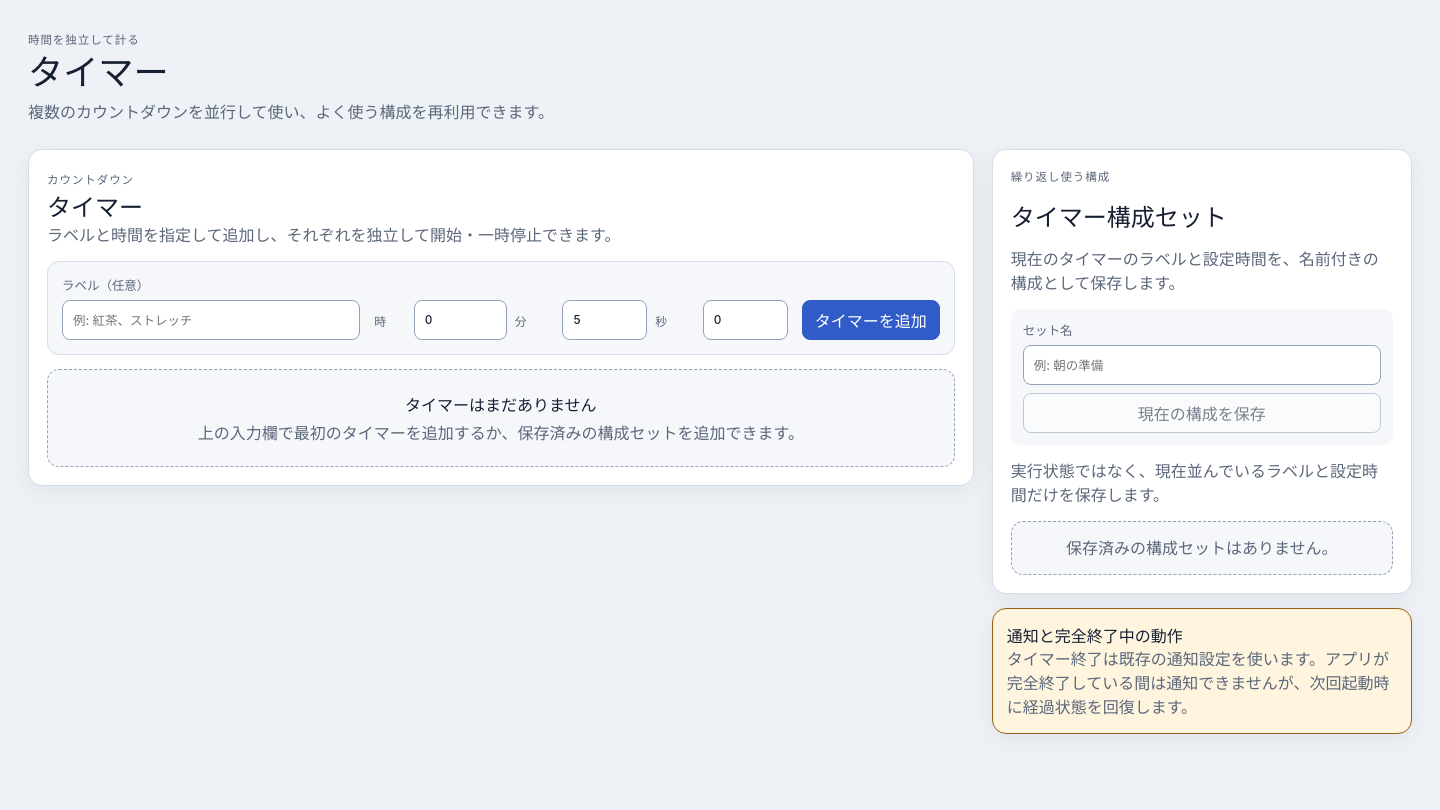
Scenario: TimersView › creates and independently controls multiple labeled timers
Expected: the heading "タイマー" below "時間を独立して計る" is shown, [28,51,169,93]
Type "紅茶" into the field with placeholder "例: 紅茶、ストレッチ" at coordinates (211, 320), box [62,300,360,340]
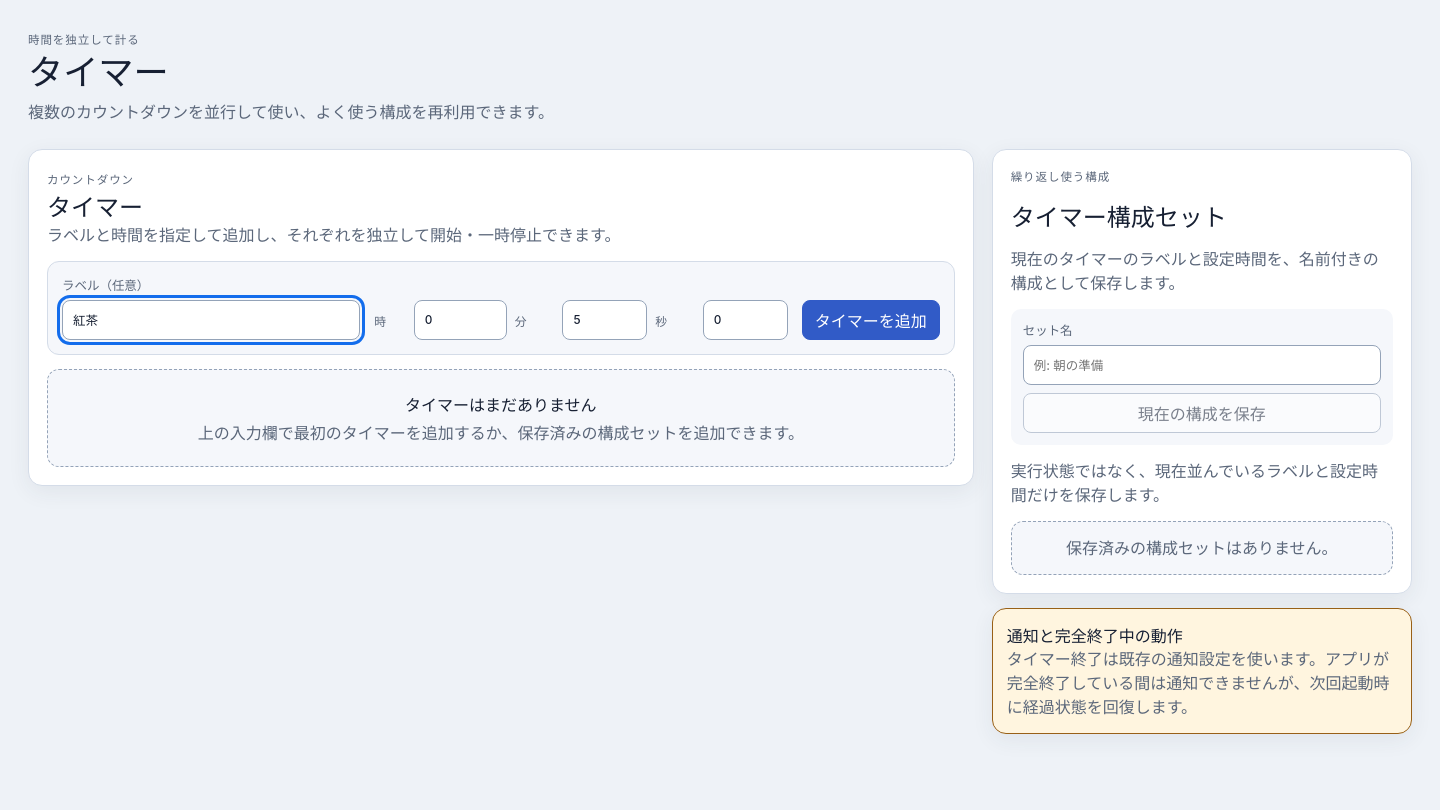
Click the button "タイマーを追加" at coordinates (871, 320), box [802,300,940,340]
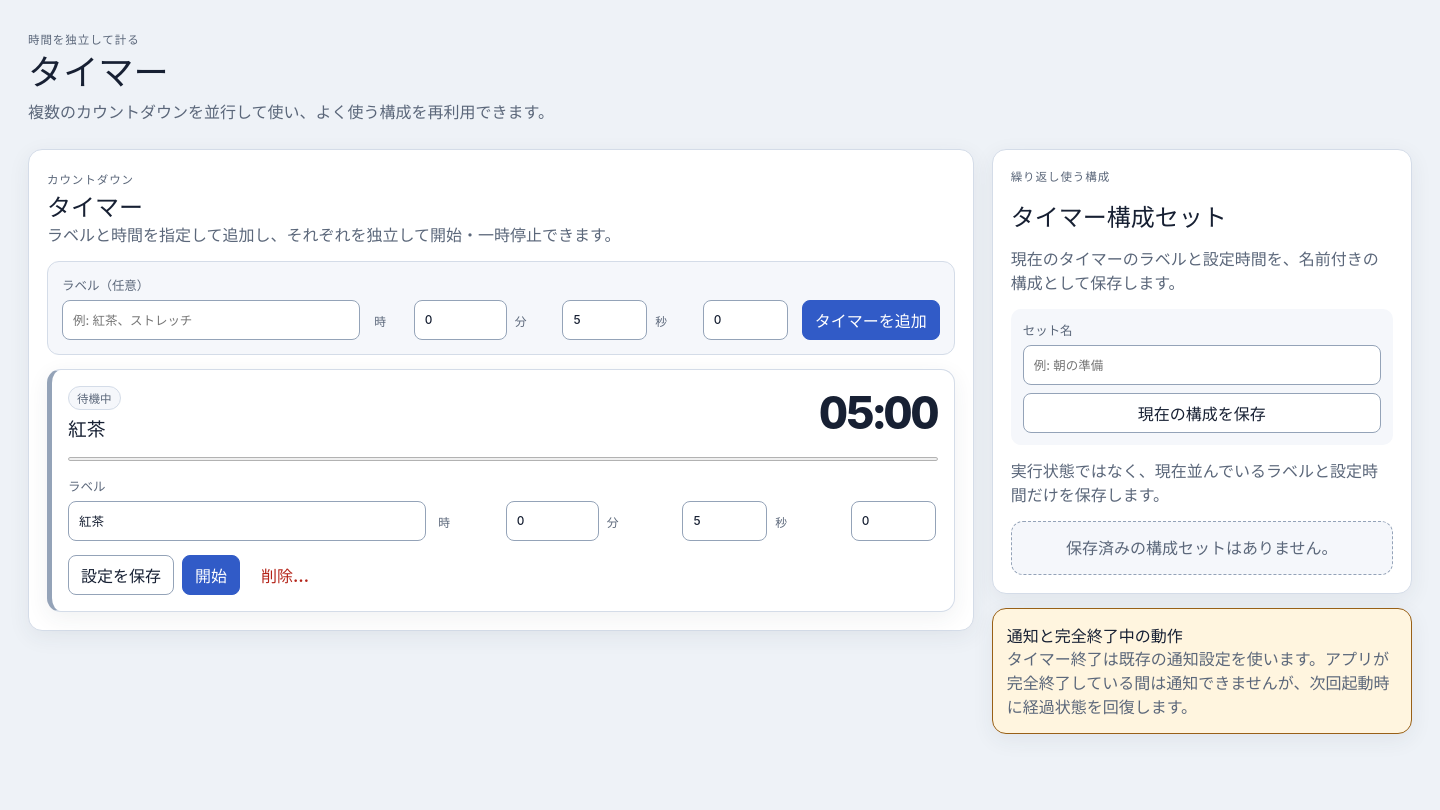
Expected: the heading "紅茶" is shown, [68,418,105,441]
Type "ストレッチ" into the field with placeholder "例: 紅茶、ストレッチ" at coordinates (211, 320), box [62,300,360,340]
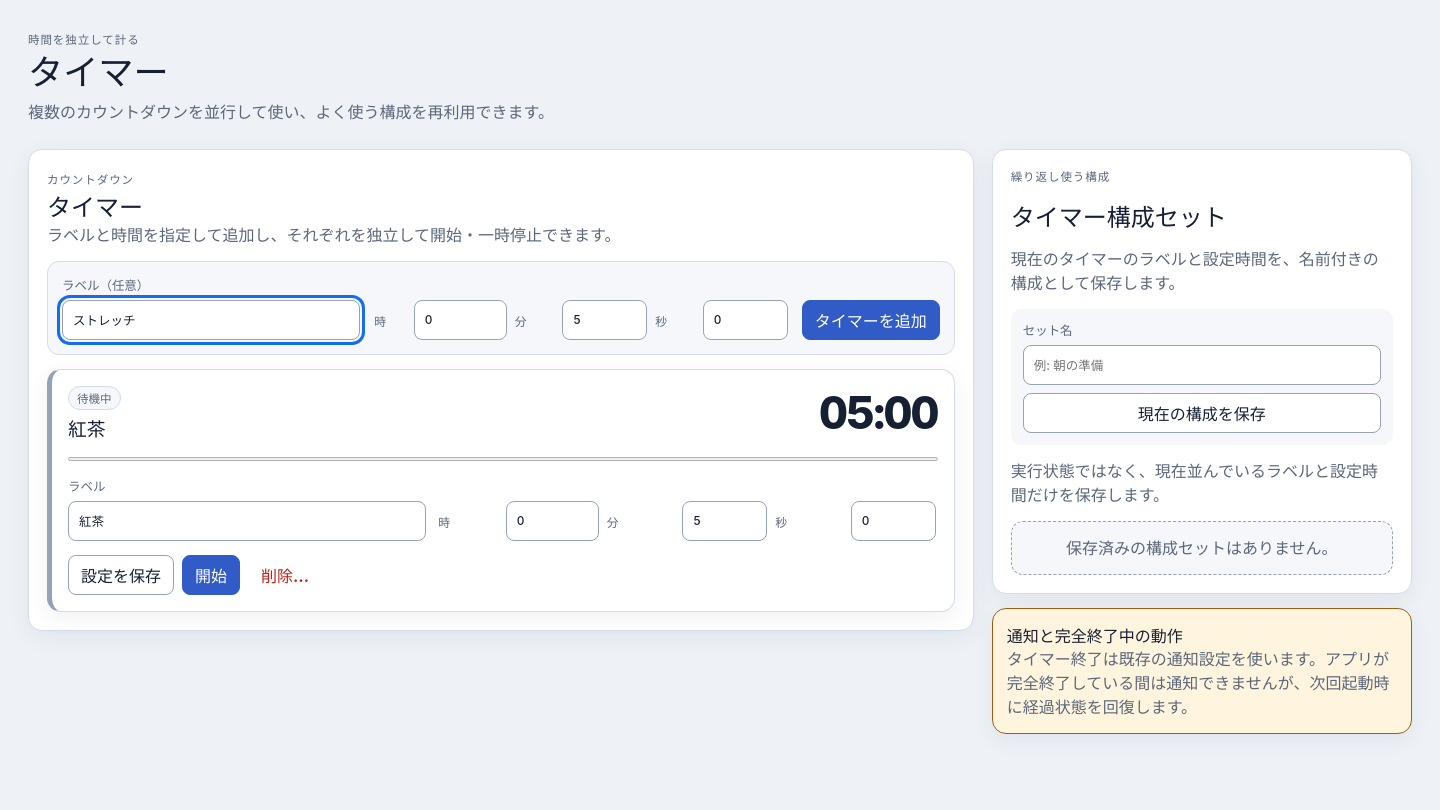
Click the button "タイマーを追加" at coordinates (871, 320), box [802,300,940,340]
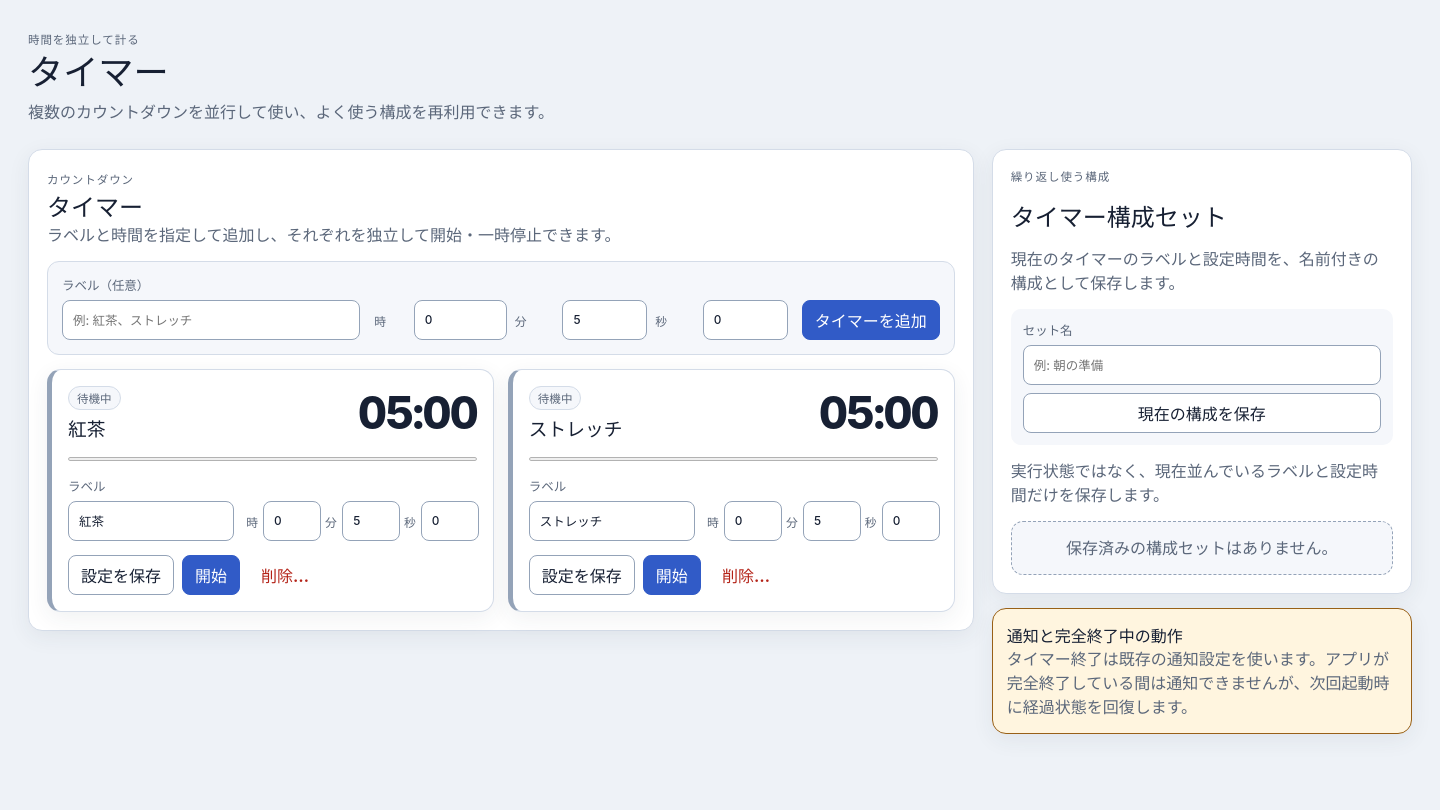
Expected: the element "ストレッチ" is shown, [508,369,955,612]
Click the button "開始" below "ストレッチ" at coordinates (672, 575), box [643,555,701,595]
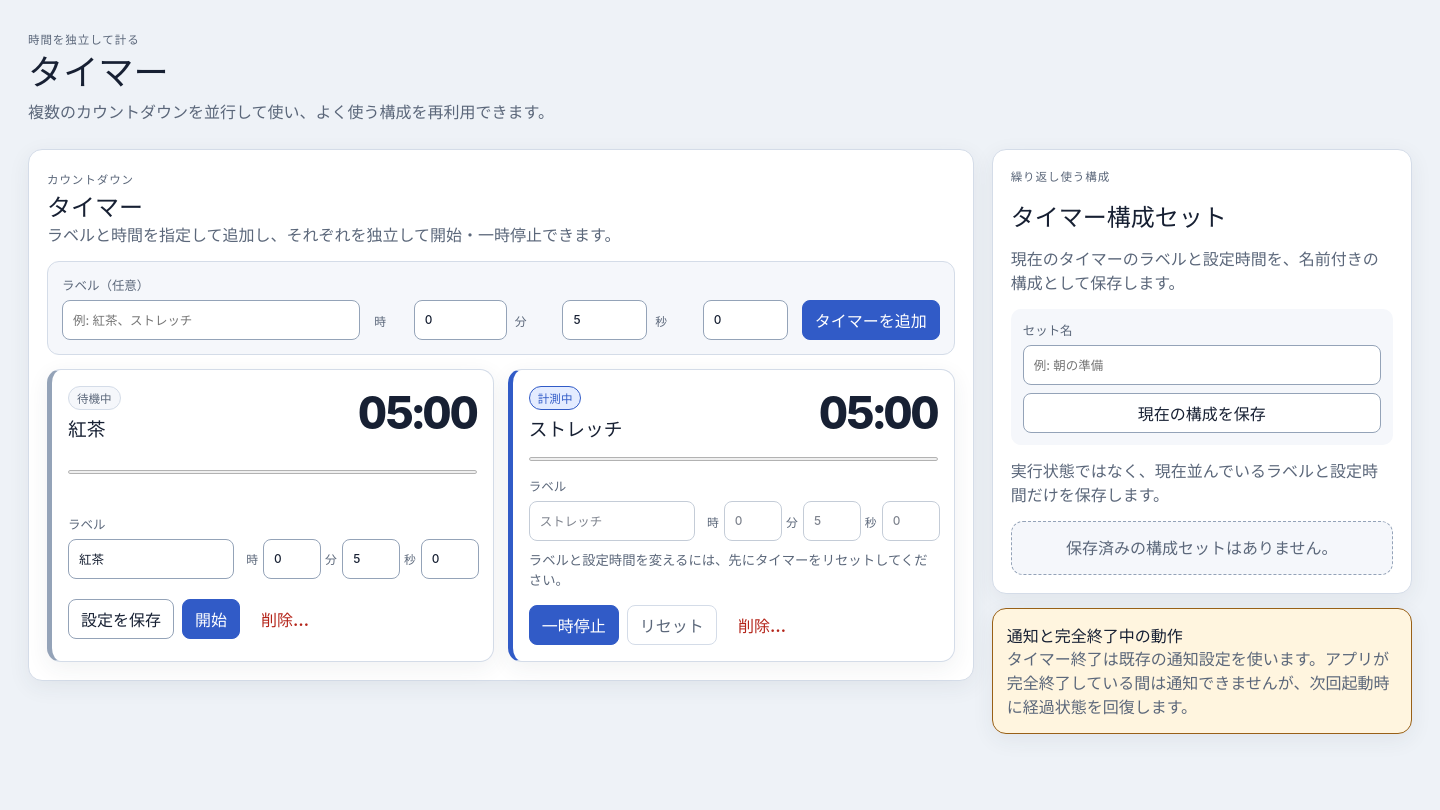
Expected: the button "開始" is shown, [182,599,240,639]
Expected: the button "一時停止" is shown, [529,605,619,645]
